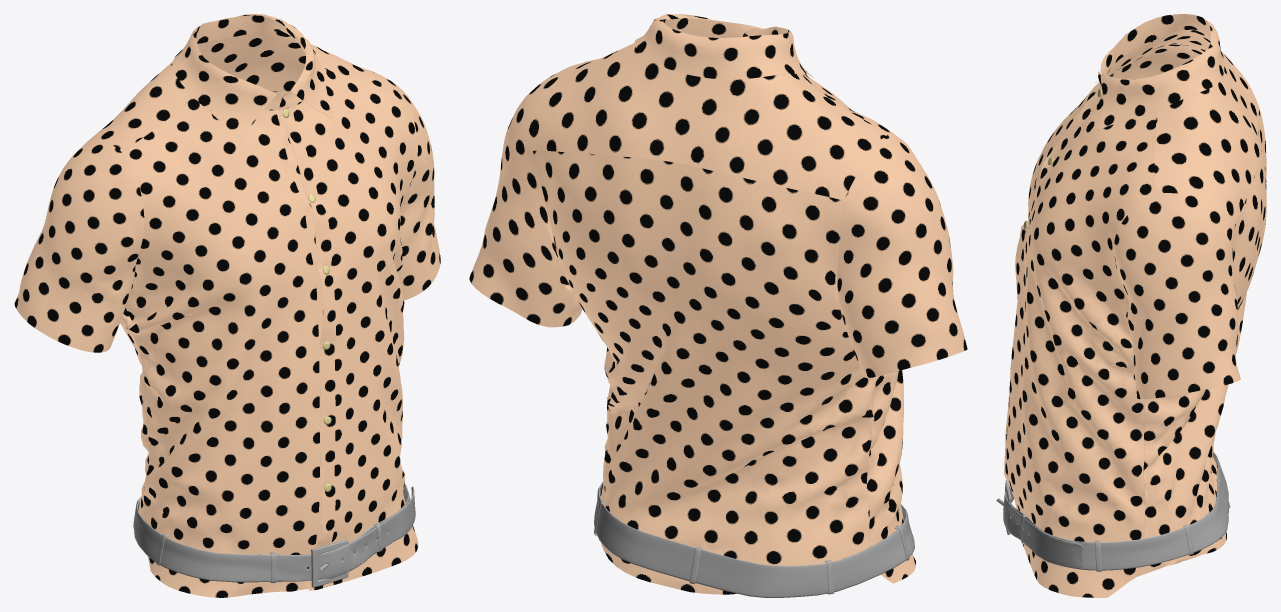
File: shirt_03.glb
3 renders of one model, left to right at view 1: azimuth 30°, elevation 25°; view 2: azimuth 150°, elevation 25°; view 3: azimuth 270°, elevation 25°, orthographic. The views are drawn at different scales.
Visible parts, largest first — view 1: shirt_mannequin_813319; view 2: shirt_mannequin_813319; view 3: shirt_mannequin_813319.
Part boxes in pixels (left/top/right/bottom): shirt_mannequin_813319: left=14, top=14, right=440, bottom=597; shirt_mannequin_813319: left=469, top=14, right=967, bottom=597; shirt_mannequin_813319: left=996, top=14, right=1266, bottom=597.
Bounding box in the file's own units: 5 × 5.82 × 2.82.
Materials: 3 (1 with a texture image).
